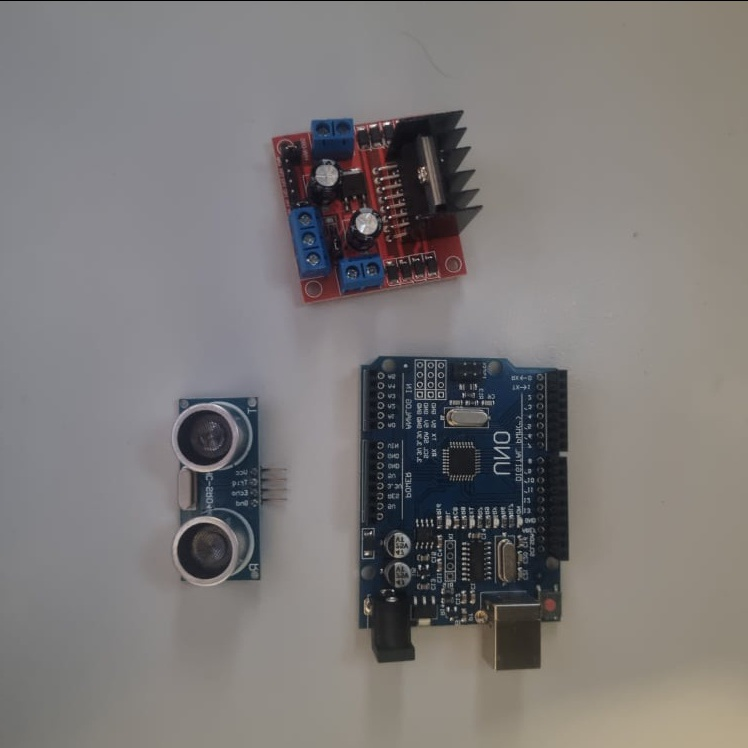MOTOR: (270, 101, 480, 305)
SENSOR: (164, 392, 291, 583)
UNO R3: (355, 352, 572, 669)
